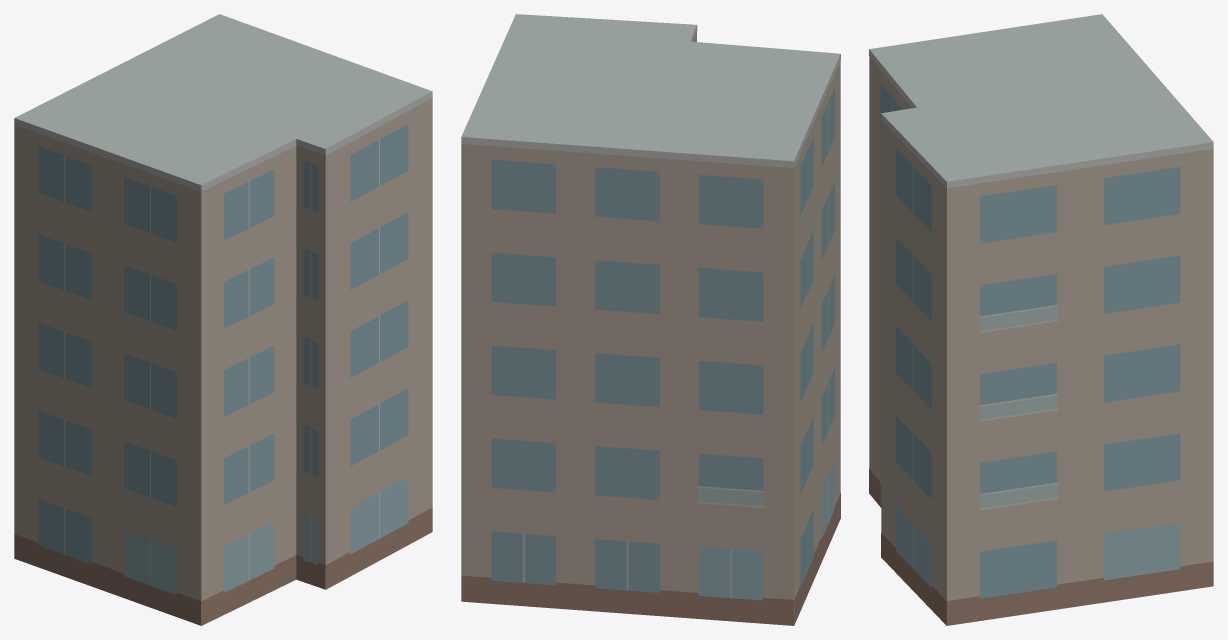
Rendered from survey-upis-32946201.glb.
3 views of the same model, side by side, from view 1: azimuth 30°, elevation 25°; view 2: azimuth 150°, elevation 25°; view 3: azimuth 270°, elevation 25° (orthographic). The views are drawn at different scales.
Visible parts, largest first — view 1: survey-upis-32946201.tmp; view 2: survey-upis-32946201.tmp; view 3: survey-upis-32946201.tmp.
Part boxes in pixels (bbox=[...]): survey-upis-32946201.tmp: bbox=[14, 14, 432, 625]; survey-upis-32946201.tmp: bbox=[461, 14, 840, 625]; survey-upis-32946201.tmp: bbox=[869, 14, 1213, 625].
Size of the model in its own units: 13.21 by 16.3 by 11.47.
